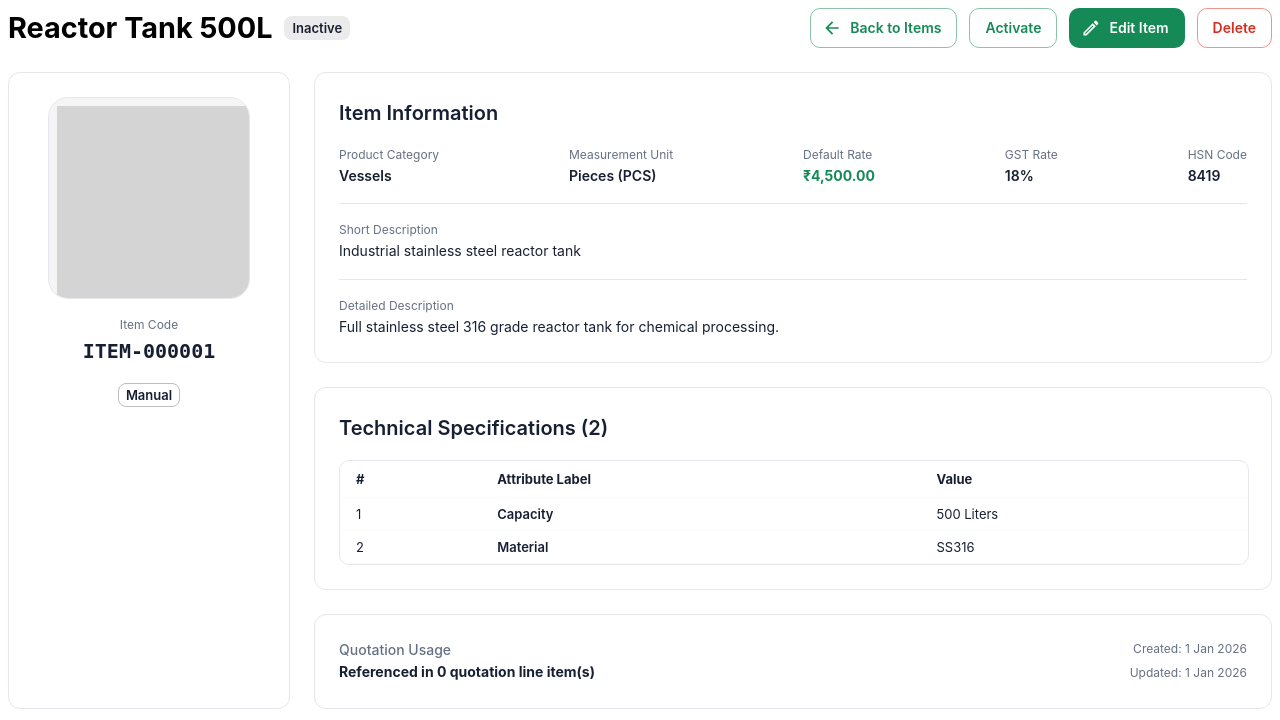
Test: item management frontend › displays activation dependency conflict from backend response on item details page
Check: the heading "Reactor Tank 500L" is shown, box [8,10,272,46]
Click the button "Activate".
click(1014, 28)  # box [970,8,1058,48]
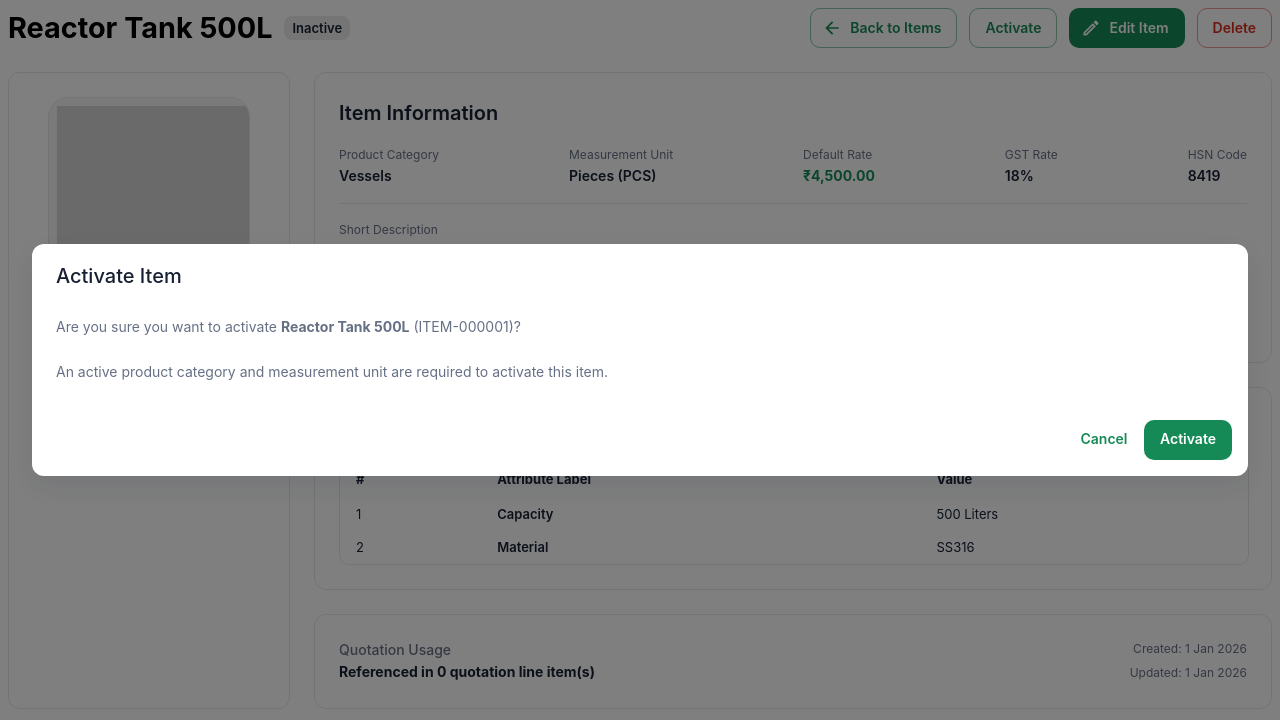
Click the button "Activate".
click(1188, 440)  # box [1144,420,1232,460]
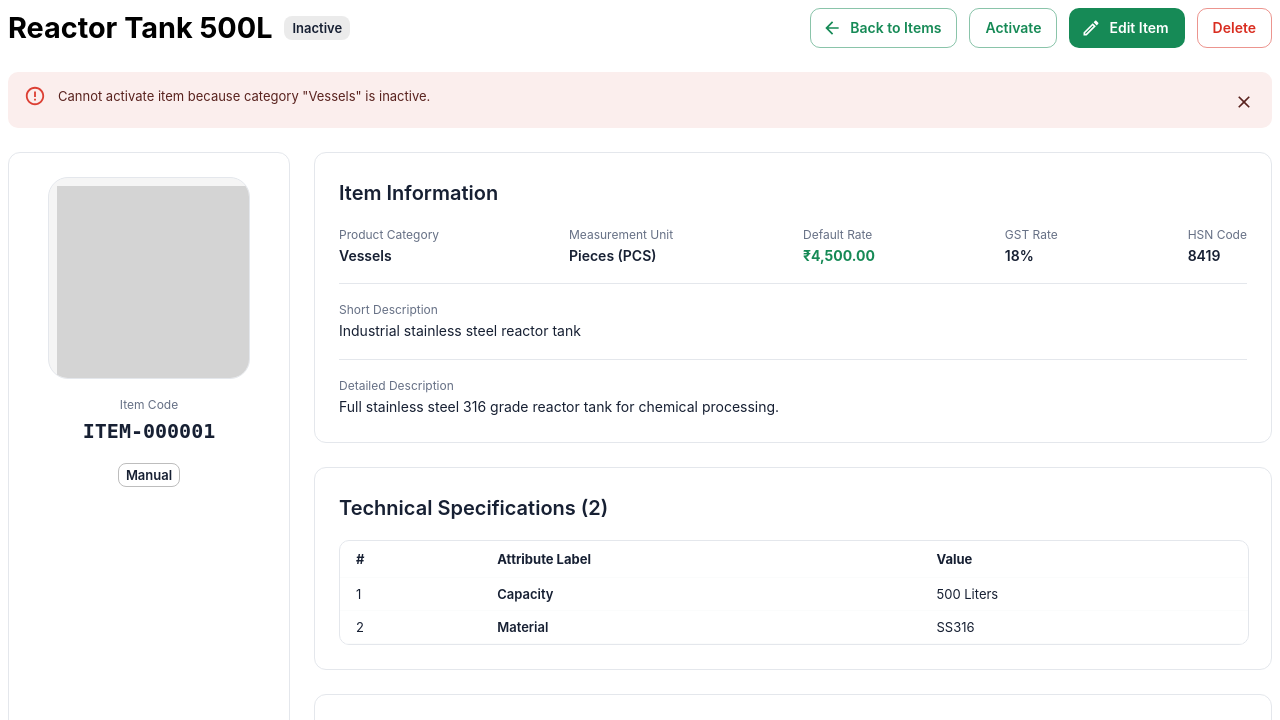
Check: the text "Cannot activate item because category \"Vessels\" is inactive." is shown, box [58,88,430,104]
